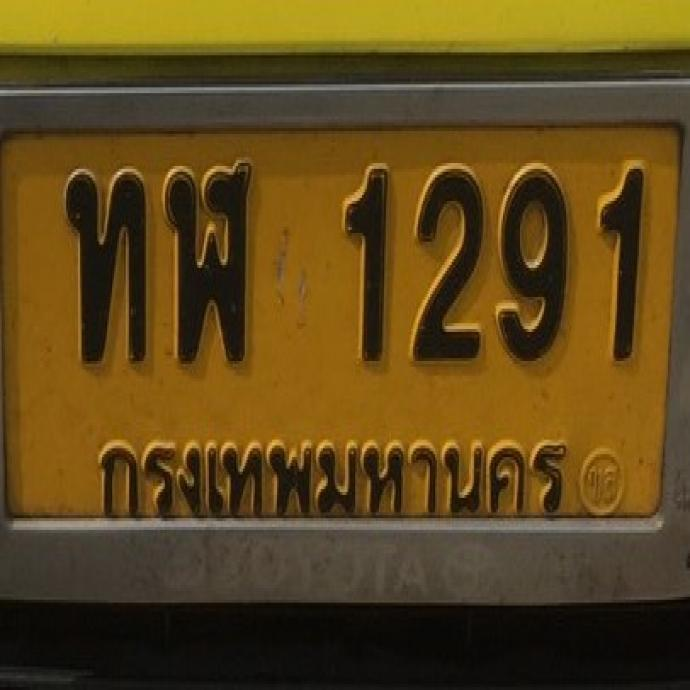1: (598, 164, 643, 361), (343, 164, 387, 361)
2: (413, 166, 483, 362)
9: (497, 166, 568, 361)
A23: (64, 169, 146, 363)
A42: (165, 159, 250, 364)
BKK: (88, 419, 575, 533)
